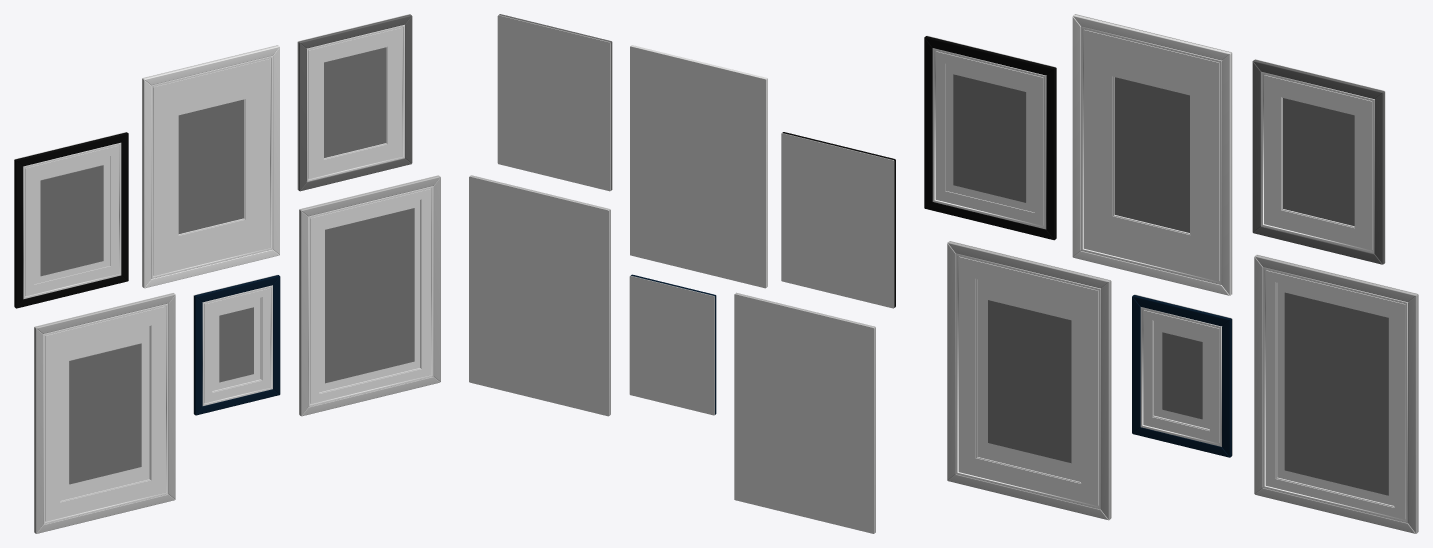
The model's file is uploads_files_5800308_Picture+frames.fbx.
3 renders of one model, left to right at view 1: azimuth 30°, elevation 25°; view 2: azimuth 150°, elevation 25°; view 3: azimuth 330°, elevation 25°, orthographic. The views are drawn at different scales.
Parts seen in each view (by area): view 1: Rectangle029, Rectangle045, Rectangle049, Rectangle044, Rectangle050, Rectangle030, Rectangle039, Rectangle034, Rectangle035, Rectangle040, Rectangle054, Shape014 (+18 smaller); view 2: Rectangle047, Rectangle042, Rectangle027, Rectangle037, Rectangle032, Rectangle052; view 3: Rectangle029, Rectangle045, Rectangle049, Rectangle050, Rectangle044, Rectangle030, Rectangle039, Rectangle034, Rectangle035, Rectangle040, Rectangle054, Shape010 (+19 smaller).
Part boxes in pixels (bbox=[...]): Rectangle029: bbox=[153, 58, 270, 275]; Rectangle045: bbox=[325, 208, 414, 383]; Rectangle049: bbox=[45, 306, 165, 521]; Rectangle044: bbox=[310, 188, 431, 403]; Rectangle050: bbox=[69, 343, 141, 484]; Rectangle030: bbox=[178, 99, 243, 233]; Rectangle039: bbox=[308, 27, 402, 178]; Rectangle034: bbox=[25, 145, 118, 296]; Rectangle035: bbox=[40, 165, 103, 276]; Rectangle040: bbox=[324, 47, 385, 157]; Rectangle054: bbox=[204, 288, 270, 403]; Shape014: bbox=[34, 294, 175, 533]; Rectangle047: bbox=[734, 294, 874, 533]; Rectangle042: bbox=[469, 176, 609, 416]; Rectangle027: bbox=[630, 46, 766, 288]; Rectangle037: bbox=[497, 15, 610, 191]; Rectangle032: bbox=[781, 133, 894, 308]; Rectangle052: bbox=[629, 275, 714, 415]; Rectangle029: bbox=[1083, 29, 1219, 281]; Rectangle045: bbox=[1284, 292, 1388, 495]; Rectangle049: bbox=[958, 256, 1098, 505]; Rectangle050: bbox=[988, 299, 1071, 463]; Rectangle044: bbox=[1265, 270, 1405, 519]; Rectangle030: bbox=[1114, 77, 1189, 232]; Rectangle039: bbox=[1264, 75, 1372, 250]; Rectangle034: bbox=[935, 51, 1043, 225]; Rectangle035: bbox=[953, 74, 1026, 202]; Rectangle040: bbox=[1283, 98, 1354, 226]; Rectangle054: bbox=[1143, 310, 1219, 443]; Shape010: bbox=[1072, 16, 1231, 295].
Size of the model in its own units: 27.35 by 26.35 by 0.2362.
